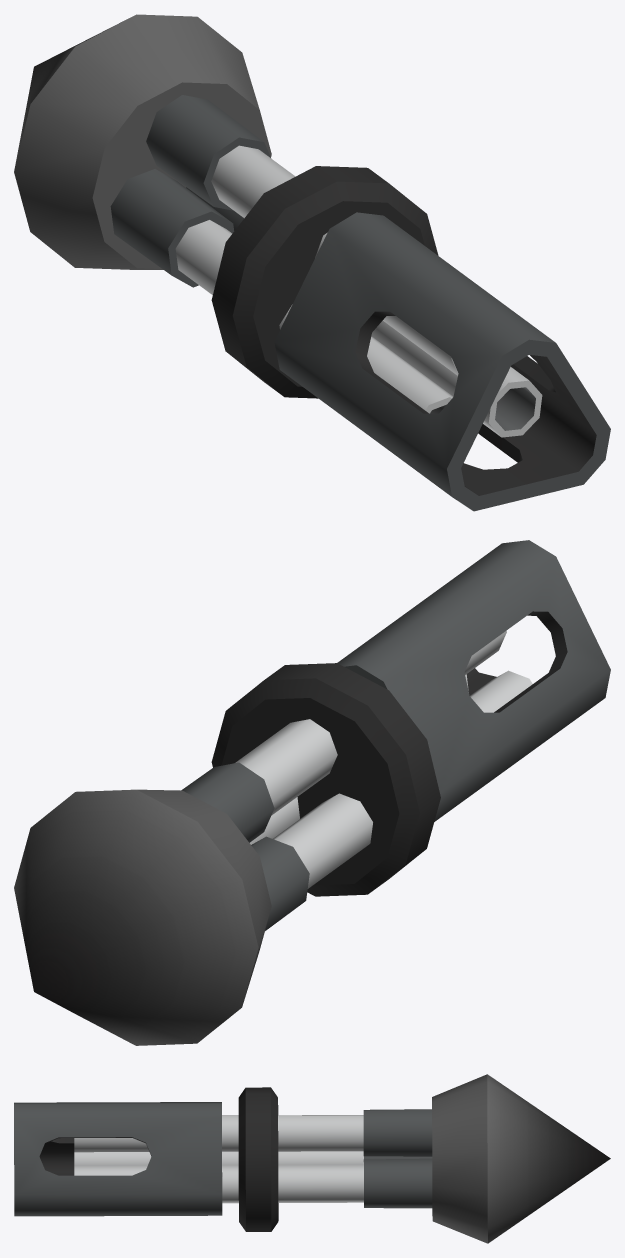
File: Turret_001_Gun_01.fbx
3 views of the same model, one above another, from view 1: azimuth 30°, elevation 25°; view 2: azimuth 150°, elevation 25°; view 3: azimuth 270°, elevation 25° (orthographic). The views are drawn at different scales.
Parts seen in each view (by area): view 1: Turret_001_Gun_01; view 2: Turret_001_Gun_01; view 3: Turret_001_Gun_01.
Part boxes in pixels (bbox=[...]): Turret_001_Gun_01: bbox=[14, 14, 610, 511]; Turret_001_Gun_01: bbox=[14, 540, 610, 1045]; Turret_001_Gun_01: bbox=[14, 1074, 610, 1243].
Size of the model in its own units: 40.78 by 143 by 40.78.
